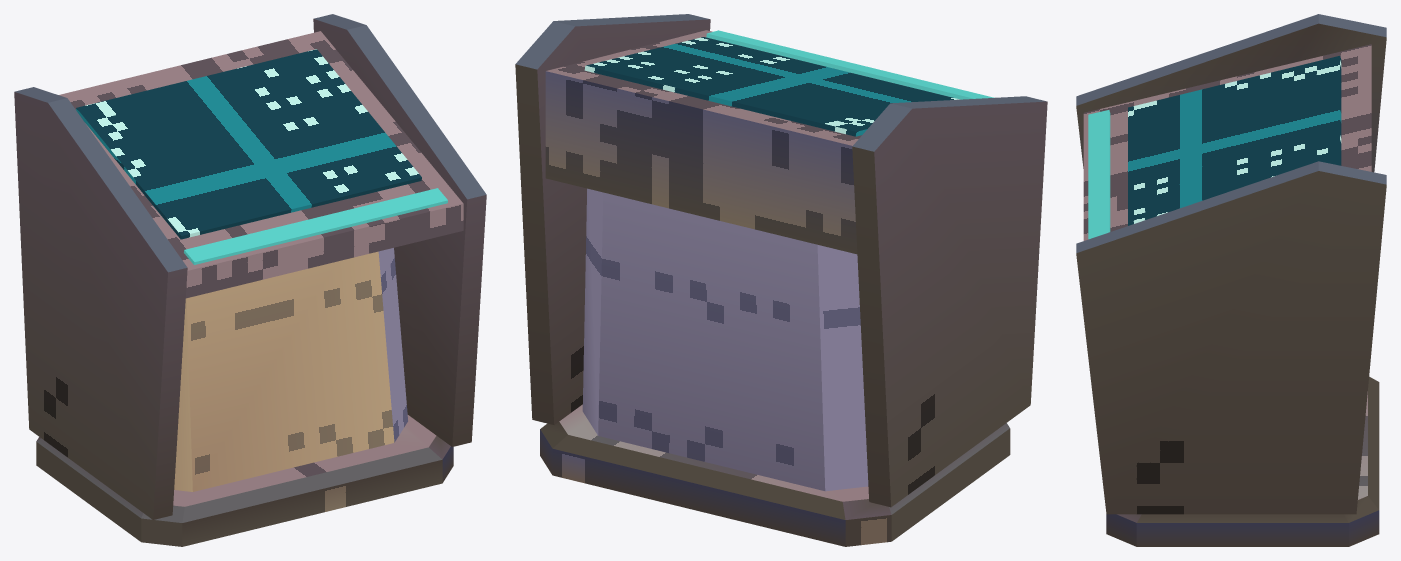
File: tech.console__pillar.glb
3 renders of one model, left to right at view 1: azimuth 30°, elevation 25°; view 2: azimuth 150°, elevation 25°; view 3: azimuth 270°, elevation 25°, orthographic. The views are drawn at different scales.
Parts seen in each view (by area): view 1: kit_fins, kit_body, kit_screens, kit_desk, kit_plinth, kit_strip; view 2: kit_fins, kit_body, kit_desk, kit_plinth, kit_screens, kit_strip; view 3: kit_fins, kit_screens, kit_plinth, kit_desk, kit_strip.
Part boxes in pixels (left/top/right/bottom): kit_fins: left=14, top=14, right=486, bottom=519; kit_body: left=174, top=248, right=407, bottom=491; kit_screens: left=76, top=49, right=421, bottom=239; kit_desk: left=59, top=31, right=463, bottom=298; kit_plinth: left=36, top=415, right=453, bottom=546; kit_strip: left=184, top=188, right=447, bottom=264; kit_fins: left=515, top=14, right=1047, bottom=507; kit_body: left=582, top=188, right=868, bottom=491; kit_desk: left=545, top=30, right=861, bottom=254; kit_plinth: left=540, top=404, right=1010, bottom=546; kit_screens: left=584, top=37, right=959, bottom=136; kit_strip: left=706, top=30, right=994, bottom=99; kit_fins: left=1076, top=14, right=1386, bottom=514; kit_screens: left=1128, top=56, right=1341, bottom=225; kit_plinth: left=1106, top=376, right=1379, bottom=546; kit_desk: left=1083, top=44, right=1371, bottom=240; kit_strip: left=1088, top=110, right=1110, bottom=239.
Bounding box in the file's own units: 0.98 × 1.1 × 0.82.
6 materials, 6 textured.
